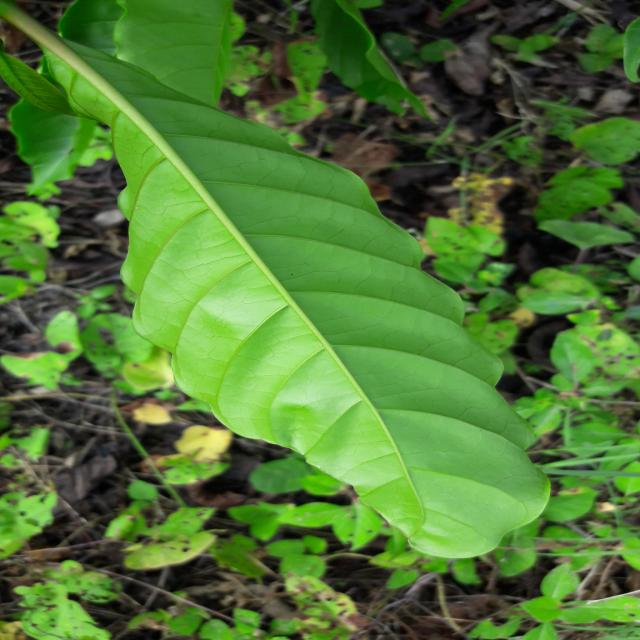Sanas: (36, 32, 554, 562)
